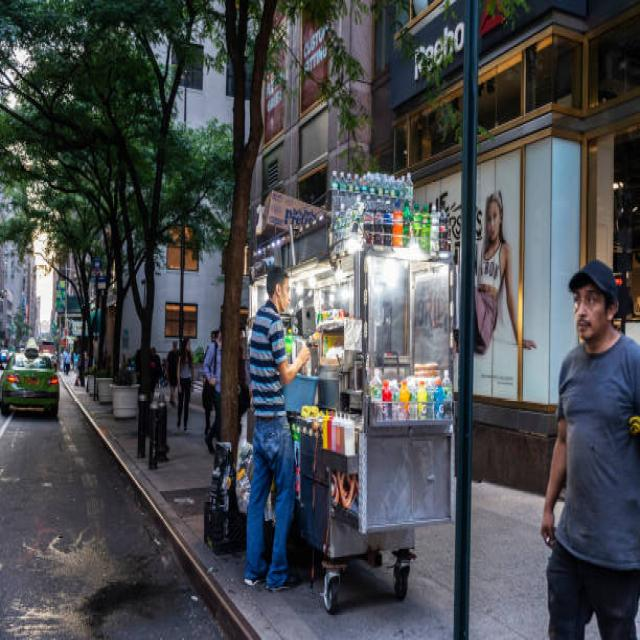Emperan: (204, 156, 462, 617)
